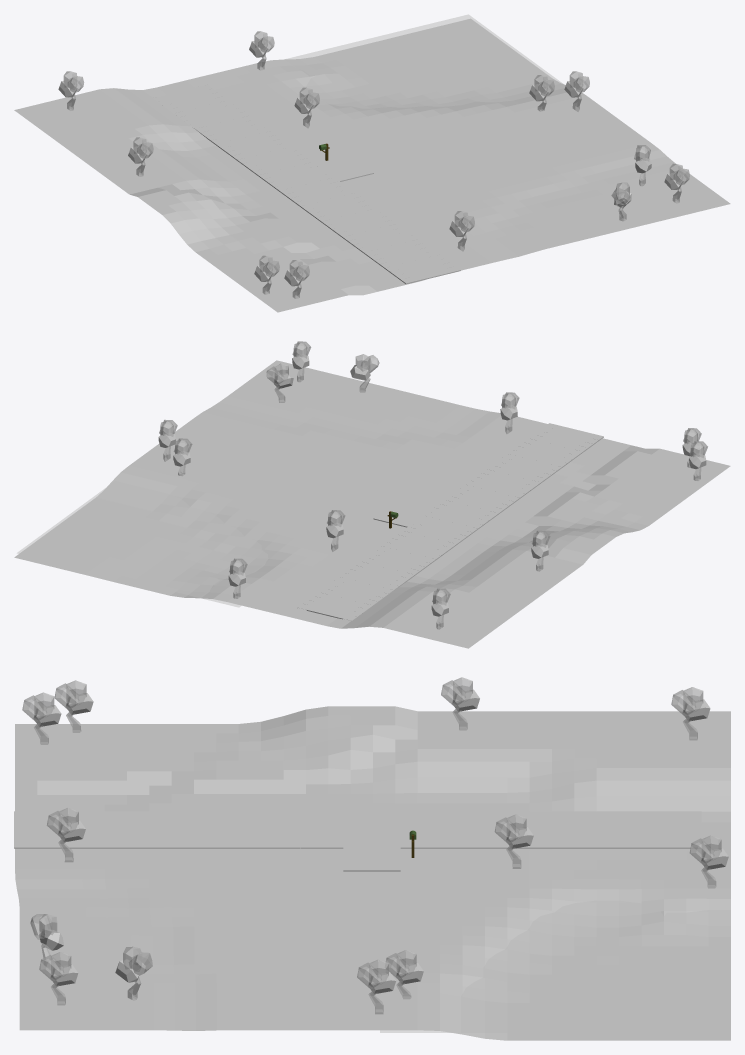
Rendered from Terrain1.fbx.
3 renders of one model, top to bottom at view 1: azimuth 30°, elevation 25°; view 2: azimuth 150°, elevation 25°; view 3: azimuth 270°, elevation 25°, orthographic. The views are drawn at different scales.
Visible parts, largest first — view 1: Mailbox; view 2: Mailbox; view 3: Mailbox.
Boxes of the visible parts, x1,y1,x2,y2 form: Mailbox: [14, 14, 730, 312]; Mailbox: [14, 341, 730, 648]; Mailbox: [14, 677, 730, 1040].
Size of the model in its own units: 50 by 6.16 by 50.07.
